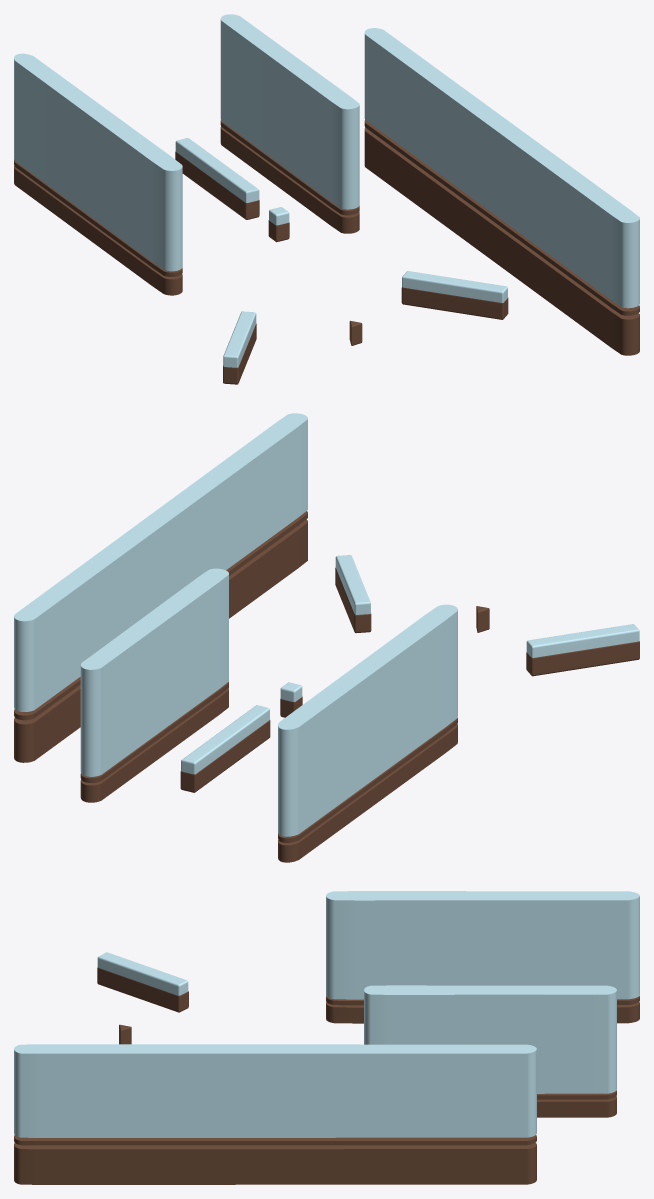
File: MDL_Showroom.fbx
3 views of the same model, one above another, from view 1: azimuth 30°, elevation 25°; view 2: azimuth 150°, elevation 25°; view 3: azimuth 270°, elevation 25° (orthographic). The views are drawn at different scales.
Visible parts, largest first — view 1: pCylinder43, pCylinder47, pCylinder26, pCylinder41, pCylinder49, pCylinder27, pCylinder42, pCube82, pCube81, pCube78, pCube75, pCube83 (+3 smaller); view 2: pCylinder43, pCylinder47, pCylinder26, pCylinder41, pCylinder49, pCylinder27, pCube84, pCube83, pCube78, pCube75, pCylinder42, pCylinder48 (+3 smaller); view 3: pCylinder43, pCylinder47, pCylinder41, pCylinder26, pCylinder42, pCube83, pCube84, pCylinder27, pCylinder49, pCylinder28.
Part boxes in pixels (x1,y1,x2,y2): pCylinder43: (364, 28, 639, 308); pCylinder47: (14, 53, 182, 271); pCylinder26: (220, 14, 359, 209); pCylinder41: (364, 127, 639, 355); pCylinder49: (14, 165, 182, 295); pCylinder27: (220, 126, 359, 233); pCylinder42: (364, 120, 639, 315); pCube82: (401, 287, 508, 319); pCube81: (402, 271, 507, 302); pCube78: (175, 138, 259, 202); pCube75: (175, 151, 259, 219); pCube83: (223, 311, 256, 367); pCylinder43: (14, 413, 307, 711); pCylinder47: (278, 604, 457, 836); pCylinder26: (80, 568, 228, 776); pCylinder41: (14, 519, 307, 762); pCylinder49: (278, 724, 457, 862); pCylinder27: (80, 688, 228, 802); pCube84: (526, 641, 639, 676); pCube83: (526, 624, 639, 657); pCube78: (181, 705, 269, 774); pCube75: (180, 720, 270, 792); pCylinder42: (14, 511, 307, 720); pCylinder48: (278, 718, 457, 842); pCylinder43: (14, 1044, 536, 1137); pCylinder47: (326, 891, 639, 999); pCylinder41: (14, 1143, 536, 1184); pCylinder26: (364, 985, 616, 1093); pCylinder42: (14, 1135, 536, 1145); pCube83: (97, 952, 188, 995); pCube84: (97, 967, 188, 1012); pCylinder27: (537, 1096, 616, 1117); pCylinder49: (326, 1002, 639, 1023); pCylinder28: (537, 1090, 616, 1099).
Bounding box in the file's own units: 750 × 272 × 1100.
